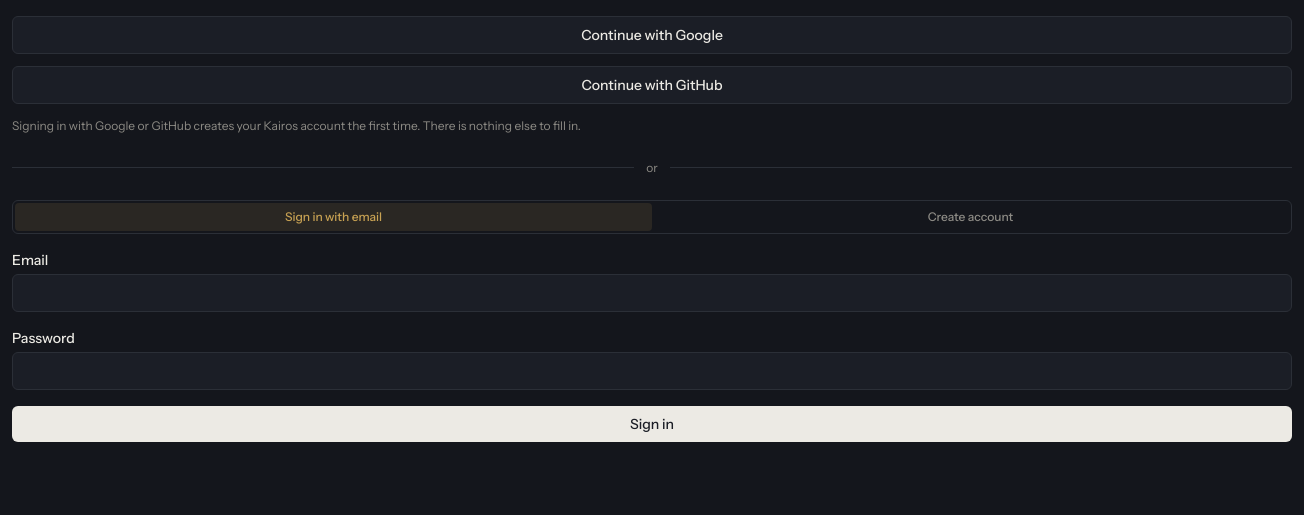
Test: creating an account › asks them to check their email when confirmation is on
Click the tab "Create account" at (970, 216), box top-left (652, 202), bottom-right (1289, 230)
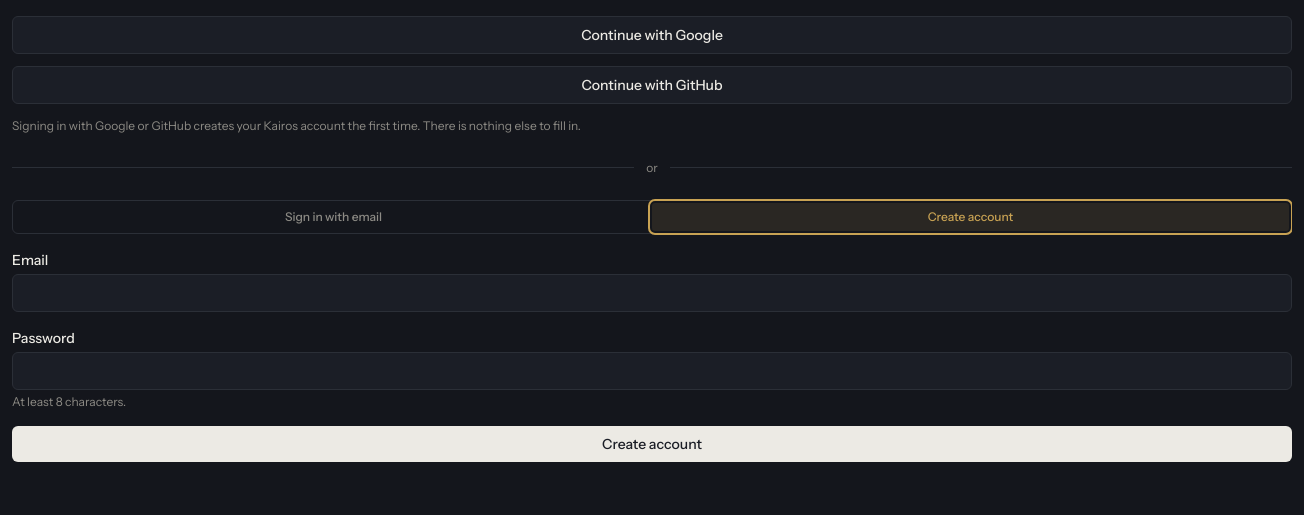
Type "new@example.com" into the field labelled "Email" at (652, 292), box top-left (12, 274), bottom-right (1292, 312)
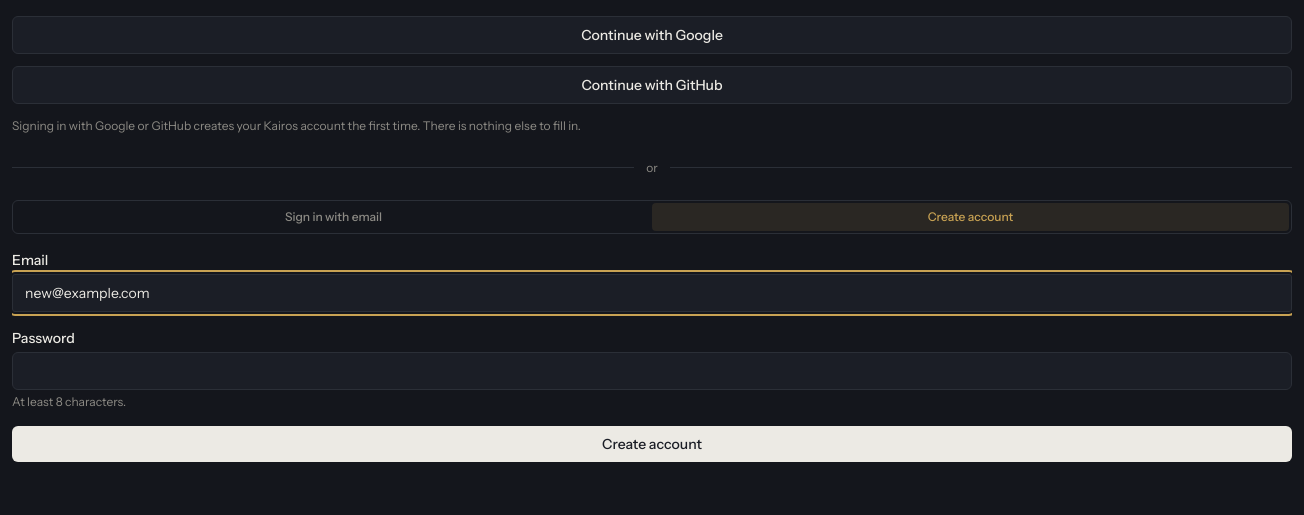
Type "correct-horse-battery" into the password field labelled "Password" at (652, 370), box top-left (12, 352), bottom-right (1292, 390)
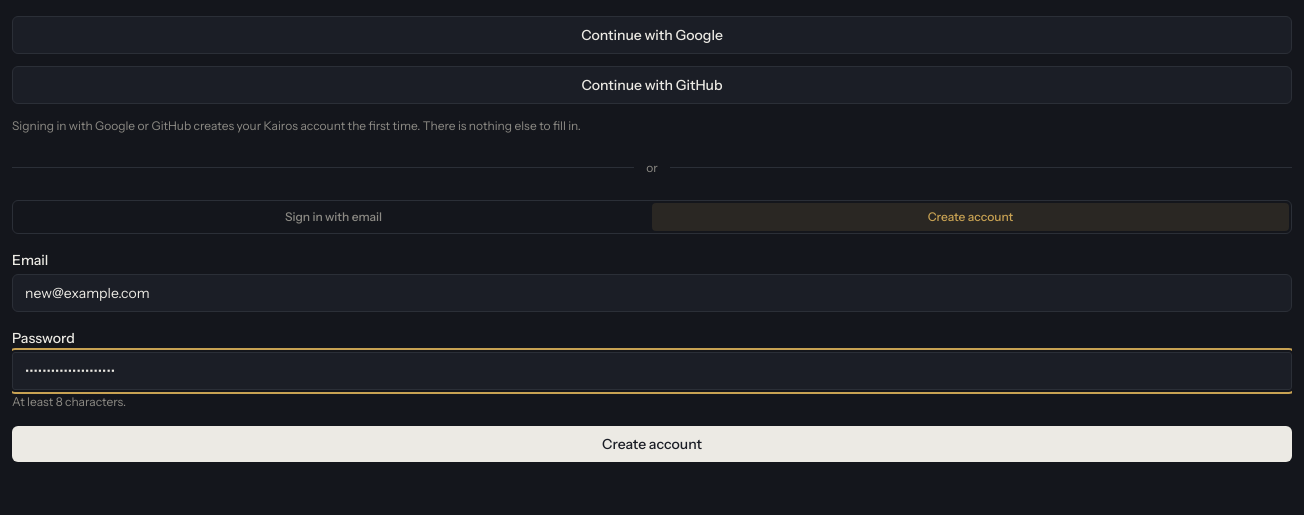
Click the button "Create account" at (652, 444), box top-left (12, 426), bottom-right (1292, 462)
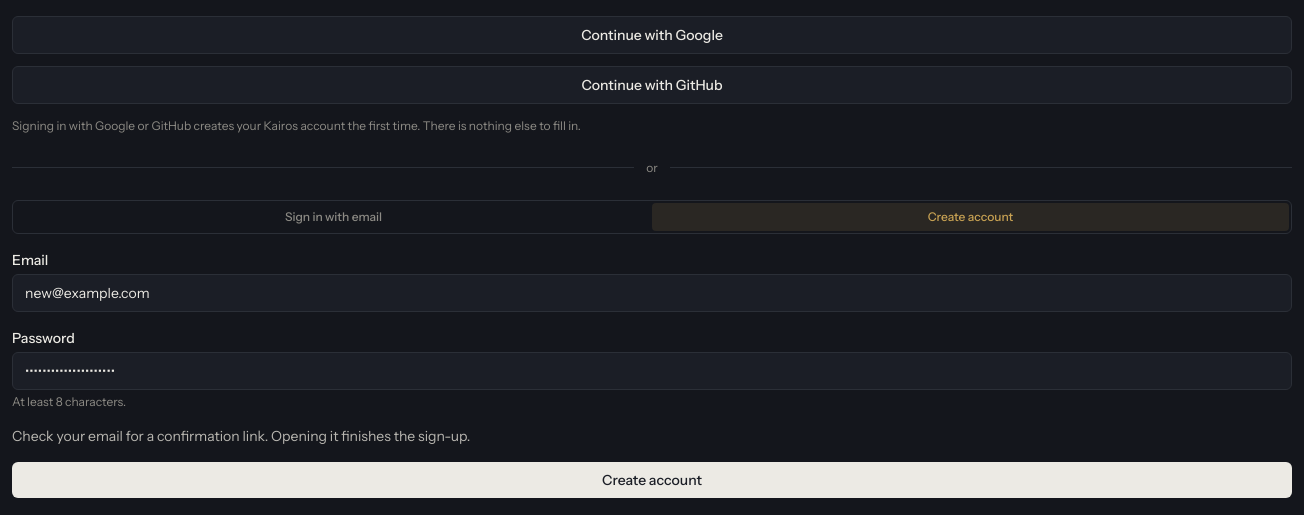
Now the message "Check your email for a confirmation link. Opening it finishes the sign-up." is shown, box top-left (12, 426), bottom-right (470, 444)
